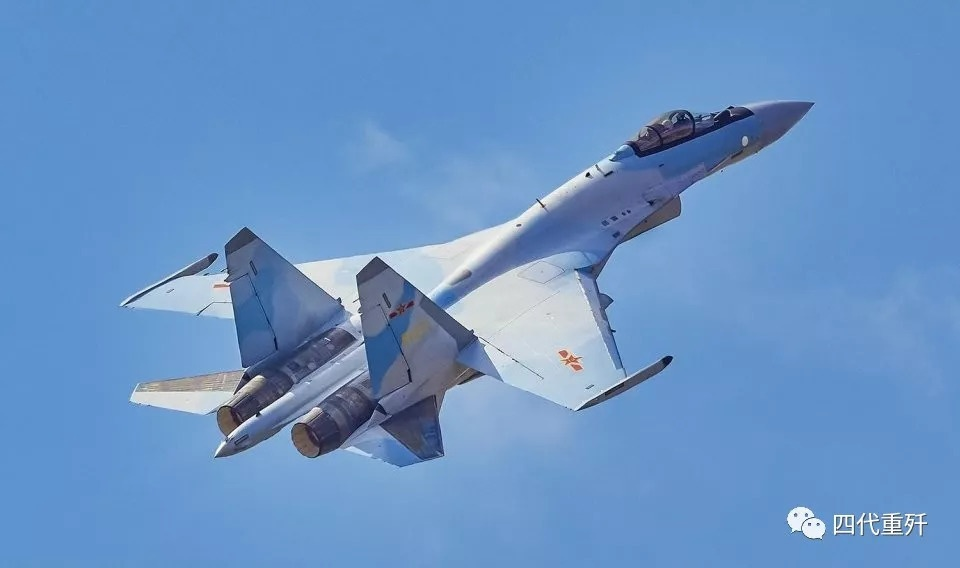airplane: (108, 92, 819, 477)
